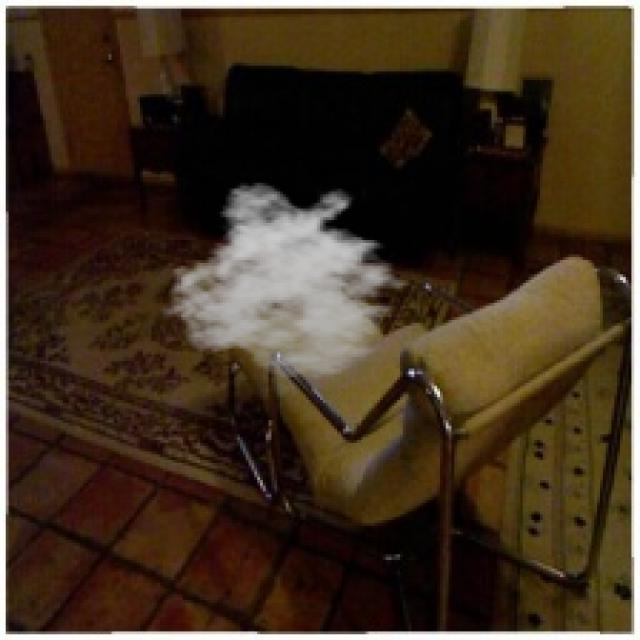smoke: (160, 180, 426, 380)
